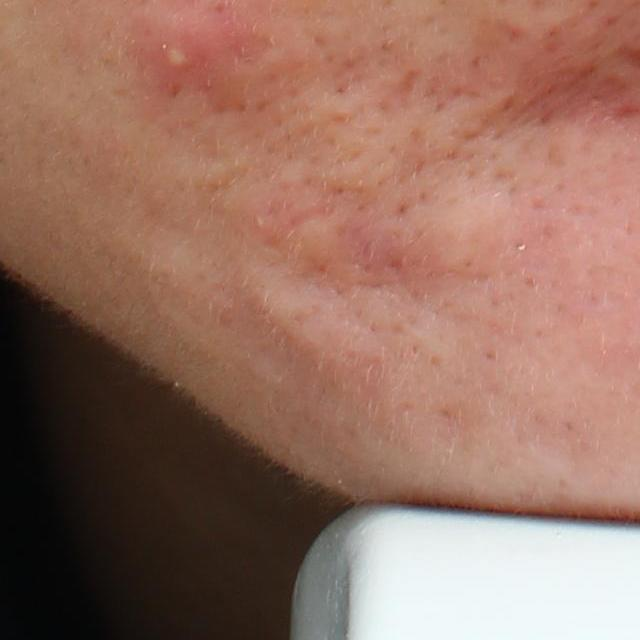hypertrophic_scar: (293, 84, 479, 200), (228, 256, 388, 388), (390, 177, 525, 286), (283, 216, 370, 286)
